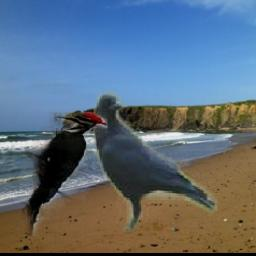Crow: (93, 89, 216, 232)
Woodpecker: (15, 112, 106, 236)
